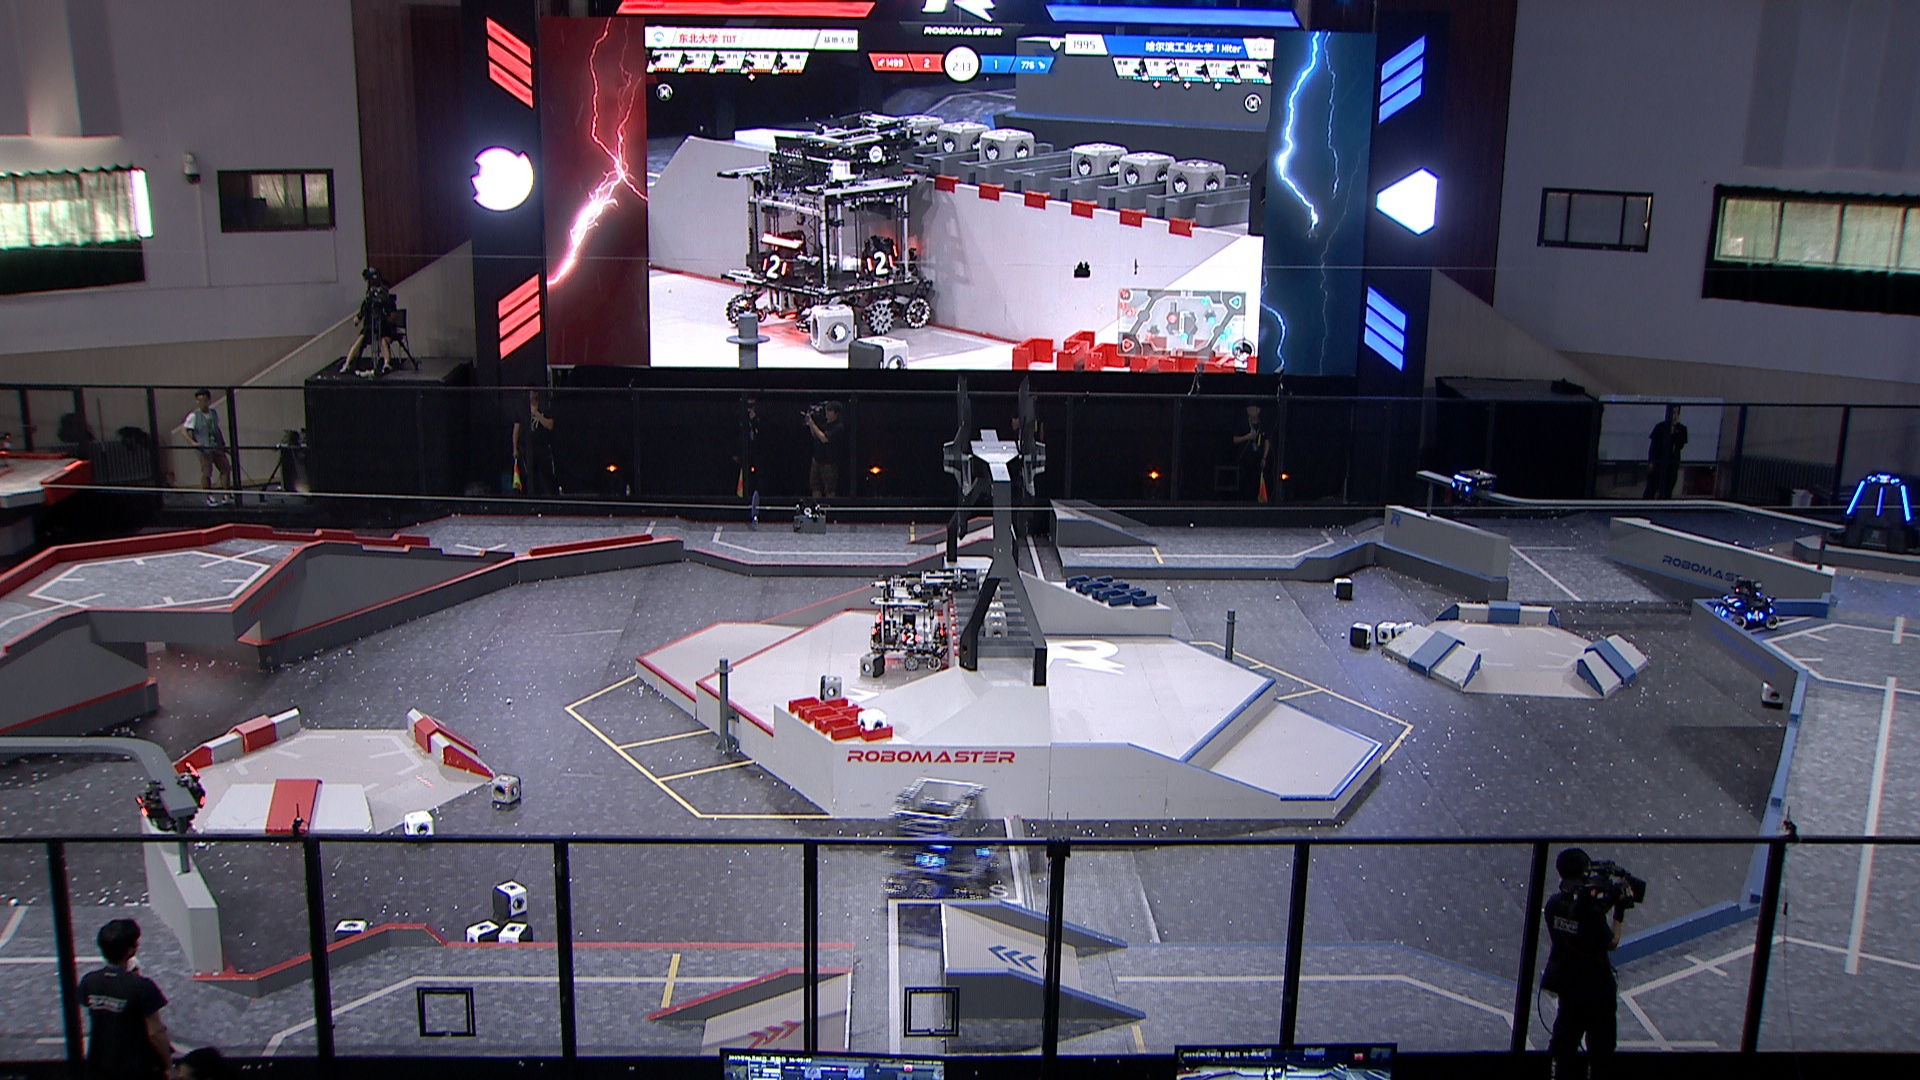armor: (1844, 480, 1866, 516), (1899, 481, 1913, 524), (916, 851, 945, 870), (133, 796, 150, 820), (1870, 473, 1898, 487), (1449, 479, 1472, 495), (975, 844, 996, 860), (1874, 487, 1884, 517), (1745, 609, 1768, 622), (1722, 593, 1742, 607), (899, 632, 918, 645), (1714, 603, 1727, 618)
base: (1826, 472, 1920, 556)
car: (882, 774, 1002, 903), (868, 570, 951, 673), (1709, 579, 1783, 632)
ignore: (713, 109, 934, 338)
watcher: (131, 761, 206, 836), (1447, 465, 1494, 509)
